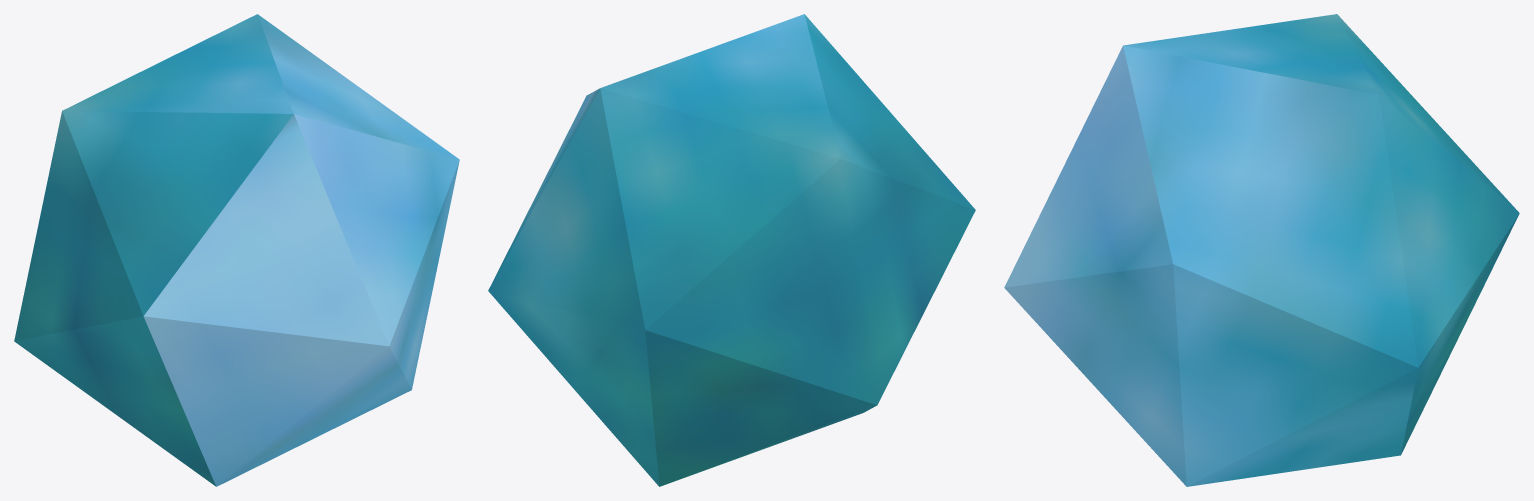
File: projectile.glb
3 renders of one model, left to right at view 1: azimuth 30°, elevation 25°; view 2: azimuth 150°, elevation 25°; view 3: azimuth 270°, elevation 25°, orthographic. The views are drawn at different scales.
Visible parts, largest first — view 1: AMMO; view 2: AMMO; view 3: AMMO.
Part boxes in pixels (x1,y1,x2,y2): AMMO: [14, 14, 459, 486]; AMMO: [488, 14, 975, 486]; AMMO: [1004, 14, 1519, 486].
Bounding box in the file's own units: 0.4131 × 0.4008 × 0.465.
1 material, 1 textured.
